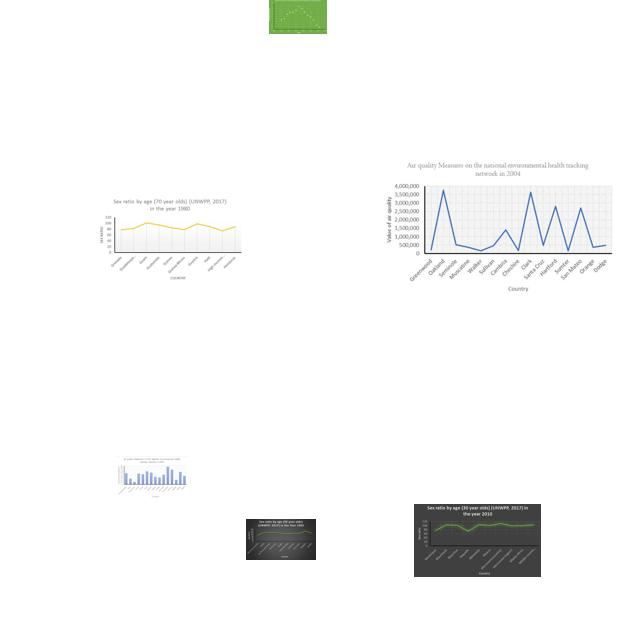Graph: (381, 160, 617, 296), (96, 196, 244, 282), (414, 504, 541, 577), (116, 456, 188, 500), (246, 519, 316, 560), (269, 0, 327, 34)
